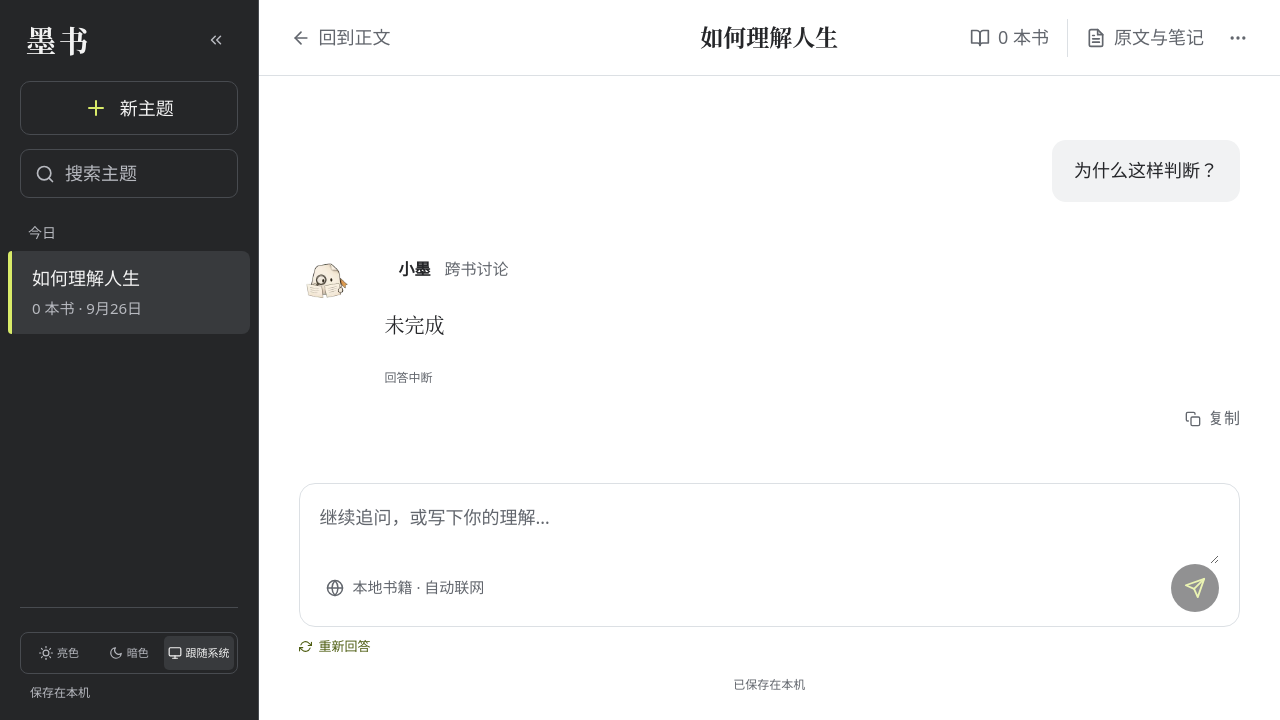
Test: 主题会话本地可靠性 › restores a failed follow-up and retries it without making a new empty topic
(page scrolled)
Expected: the text box labelled "继续追问" is shown, [320, 502, 1219, 564]
Click the button "重新回答" at [334, 646], box [298, 626, 370, 666]
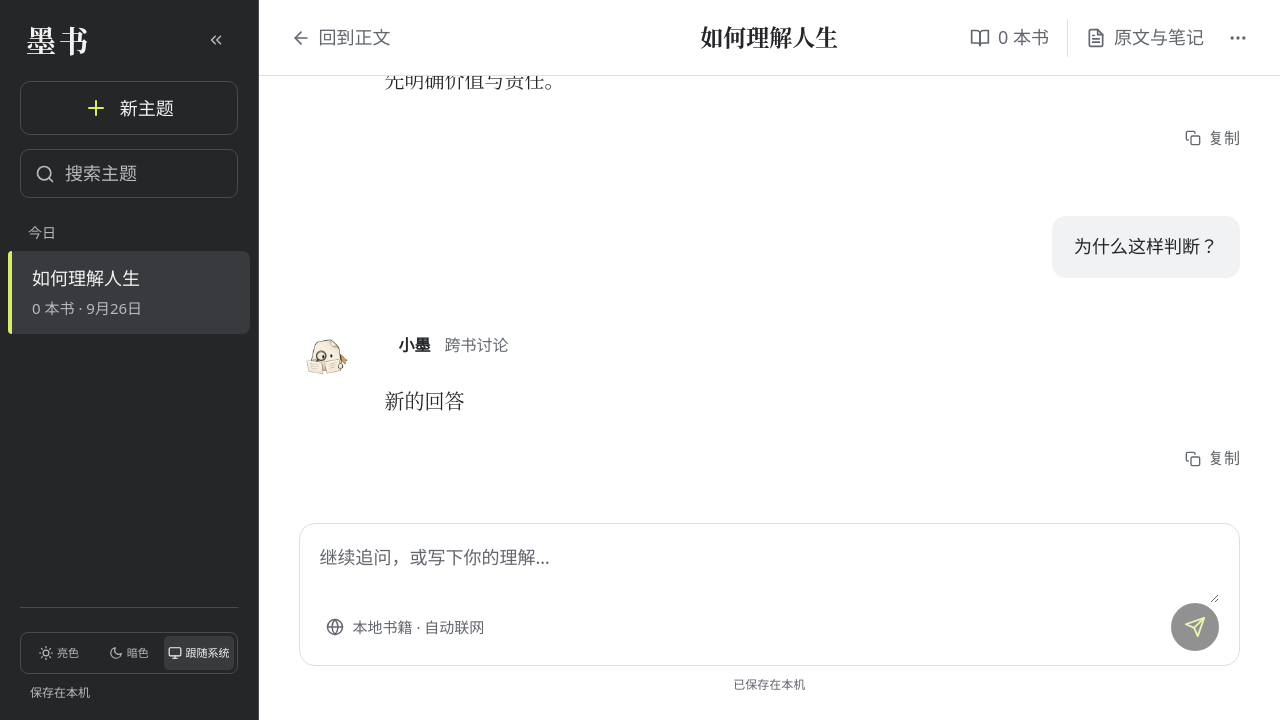
Expected: the text "为什么这样判断？" is shown, [1074, 230, 1218, 264]
Result: the text "新的回答" is shown at [384, 386, 464, 415]
